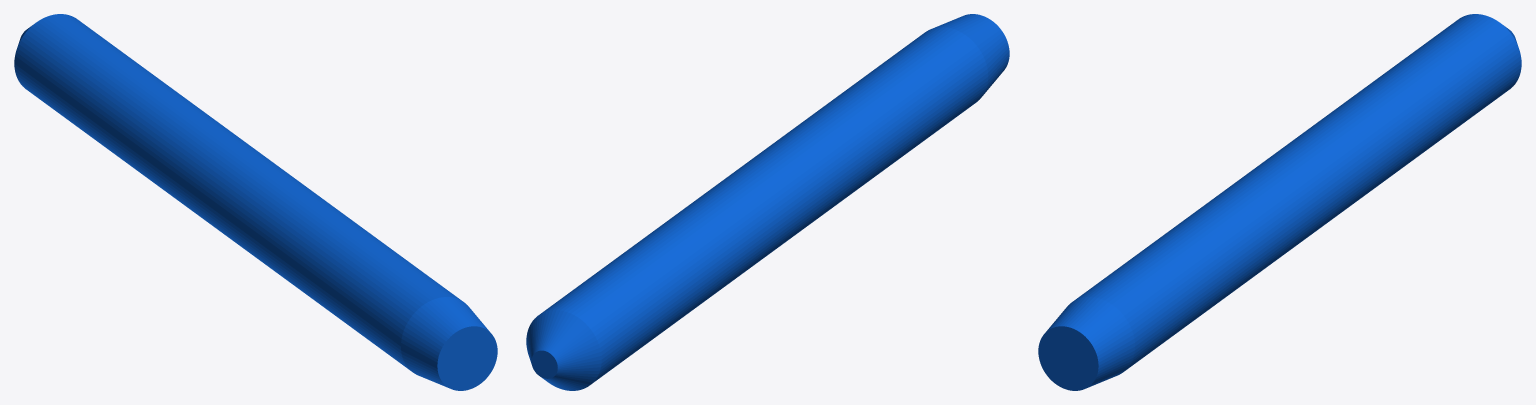
The model's file is pen.obj.
3 renders of one model, left to right at view 1: azimuth 30°, elevation 25°; view 2: azimuth 150°, elevation 25°; view 3: azimuth 330°, elevation 25°, orthographic.
Bounding box in the file's own units: 0.018 × 0.018 × 0.18.
